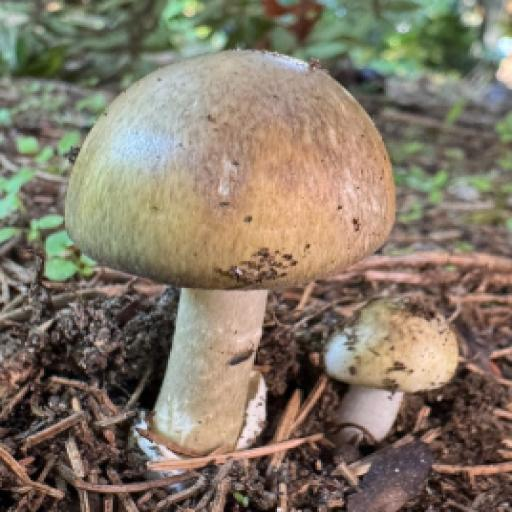mushroom: (0, 0, 445, 486), (282, 268, 476, 459)
